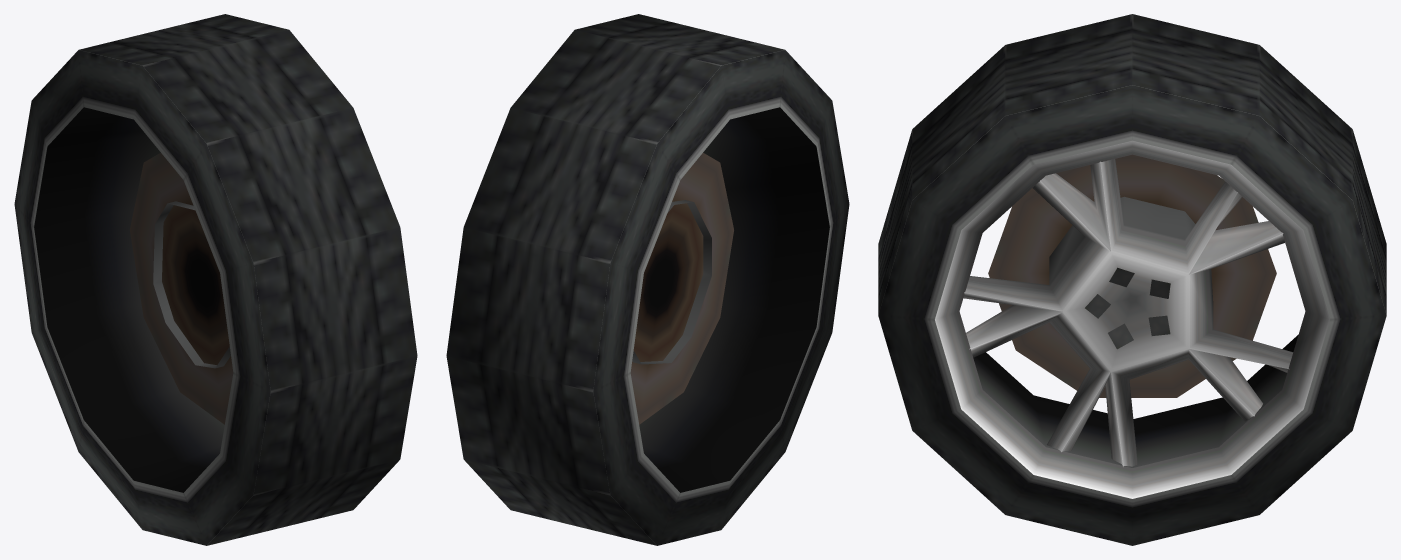
The model's file is DefaultWheel_sunrise.glb.
3 views of the same model, side by side, from view 1: azimuth 30°, elevation 25°; view 2: azimuth 150°, elevation 25°; view 3: azimuth 270°, elevation 25° (orthographic).
Visible parts, largest first — view 1: wheel; view 2: wheel; view 3: wheel.
Part boxes in pixels (x1,y1,x2,y2): wheel: (14, 14, 417, 545); wheel: (446, 14, 849, 545); wheel: (878, 14, 1386, 545).
Bounding box in the file's own units: 0.2764 × 0.7459 × 0.7459.
Materials: 2 (2 with a texture image).
